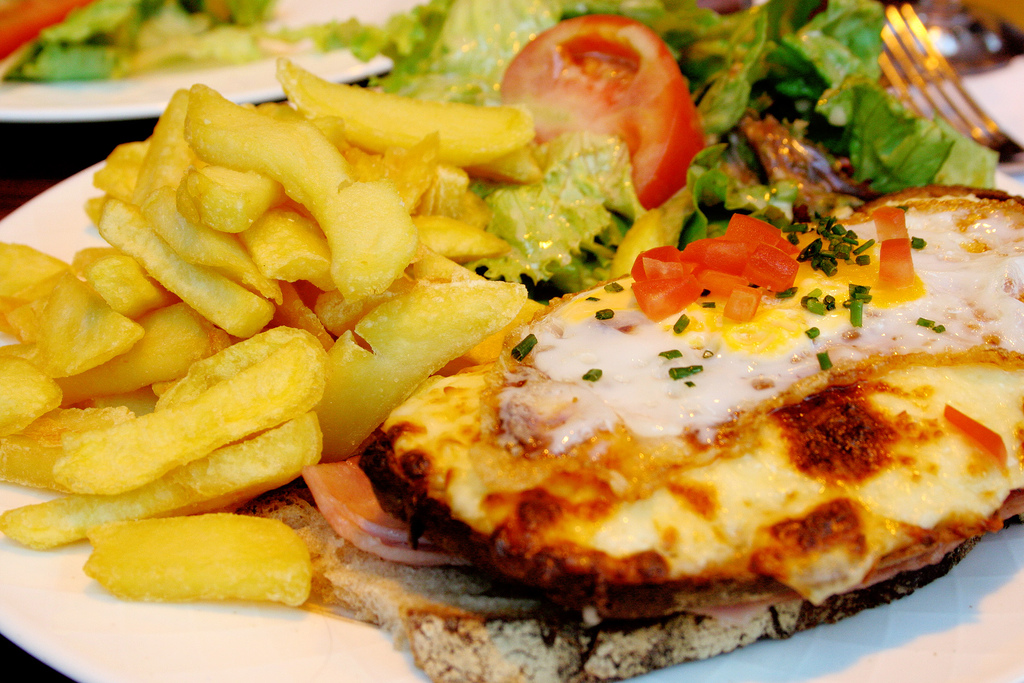boiled potatoes: (168, 105, 329, 461)
chopped lettuce: (770, 15, 937, 156)
